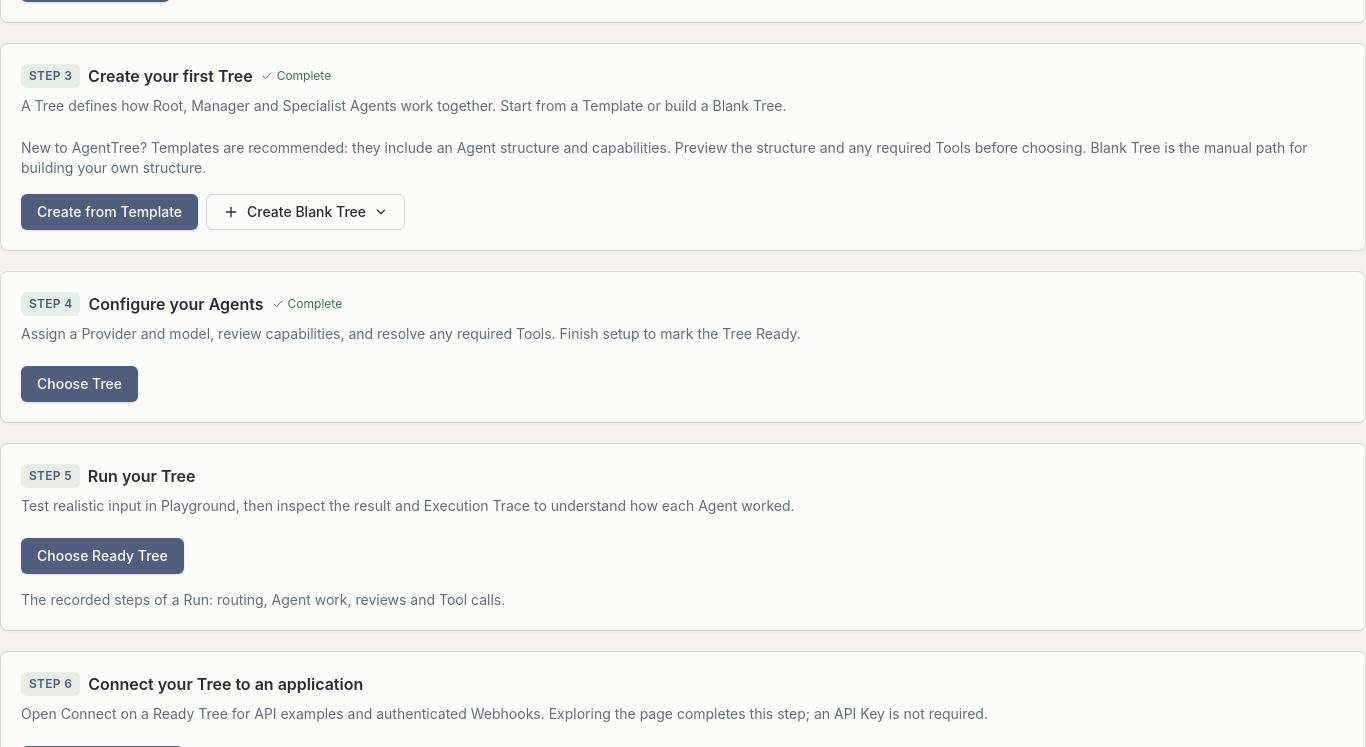
Test: requires explicit multiple-Tree selection for Configure your Agents
The width and height of the screenshot is (1366, 747).
(page scrolled)
What coordinates should you click on to do the following:
click the button "Choose Tree"
I would click on:
 (80, 384)
Its box is [21,366,138,402].
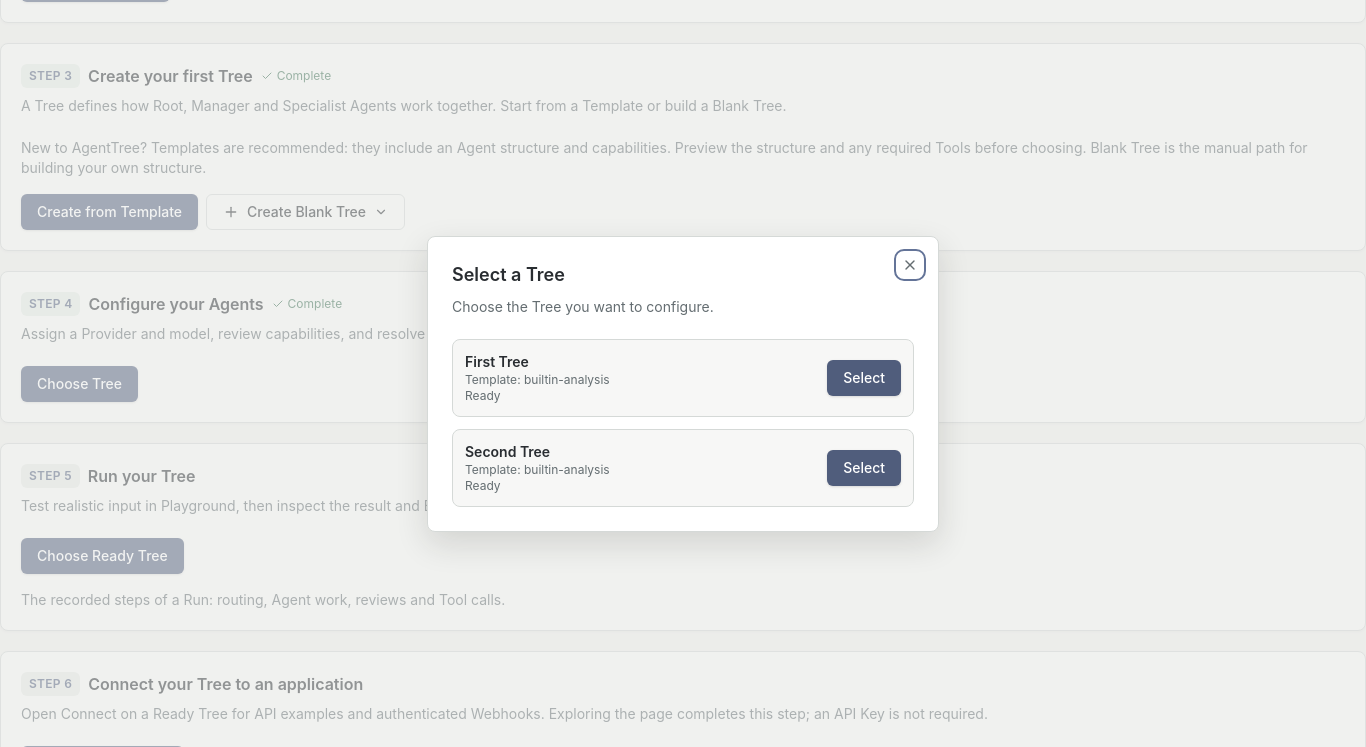
Check: the heading "First Tree" is shown, box [465,353,529,370]
Check: the heading "Second Tree" is shown, box [465,443,550,460]
